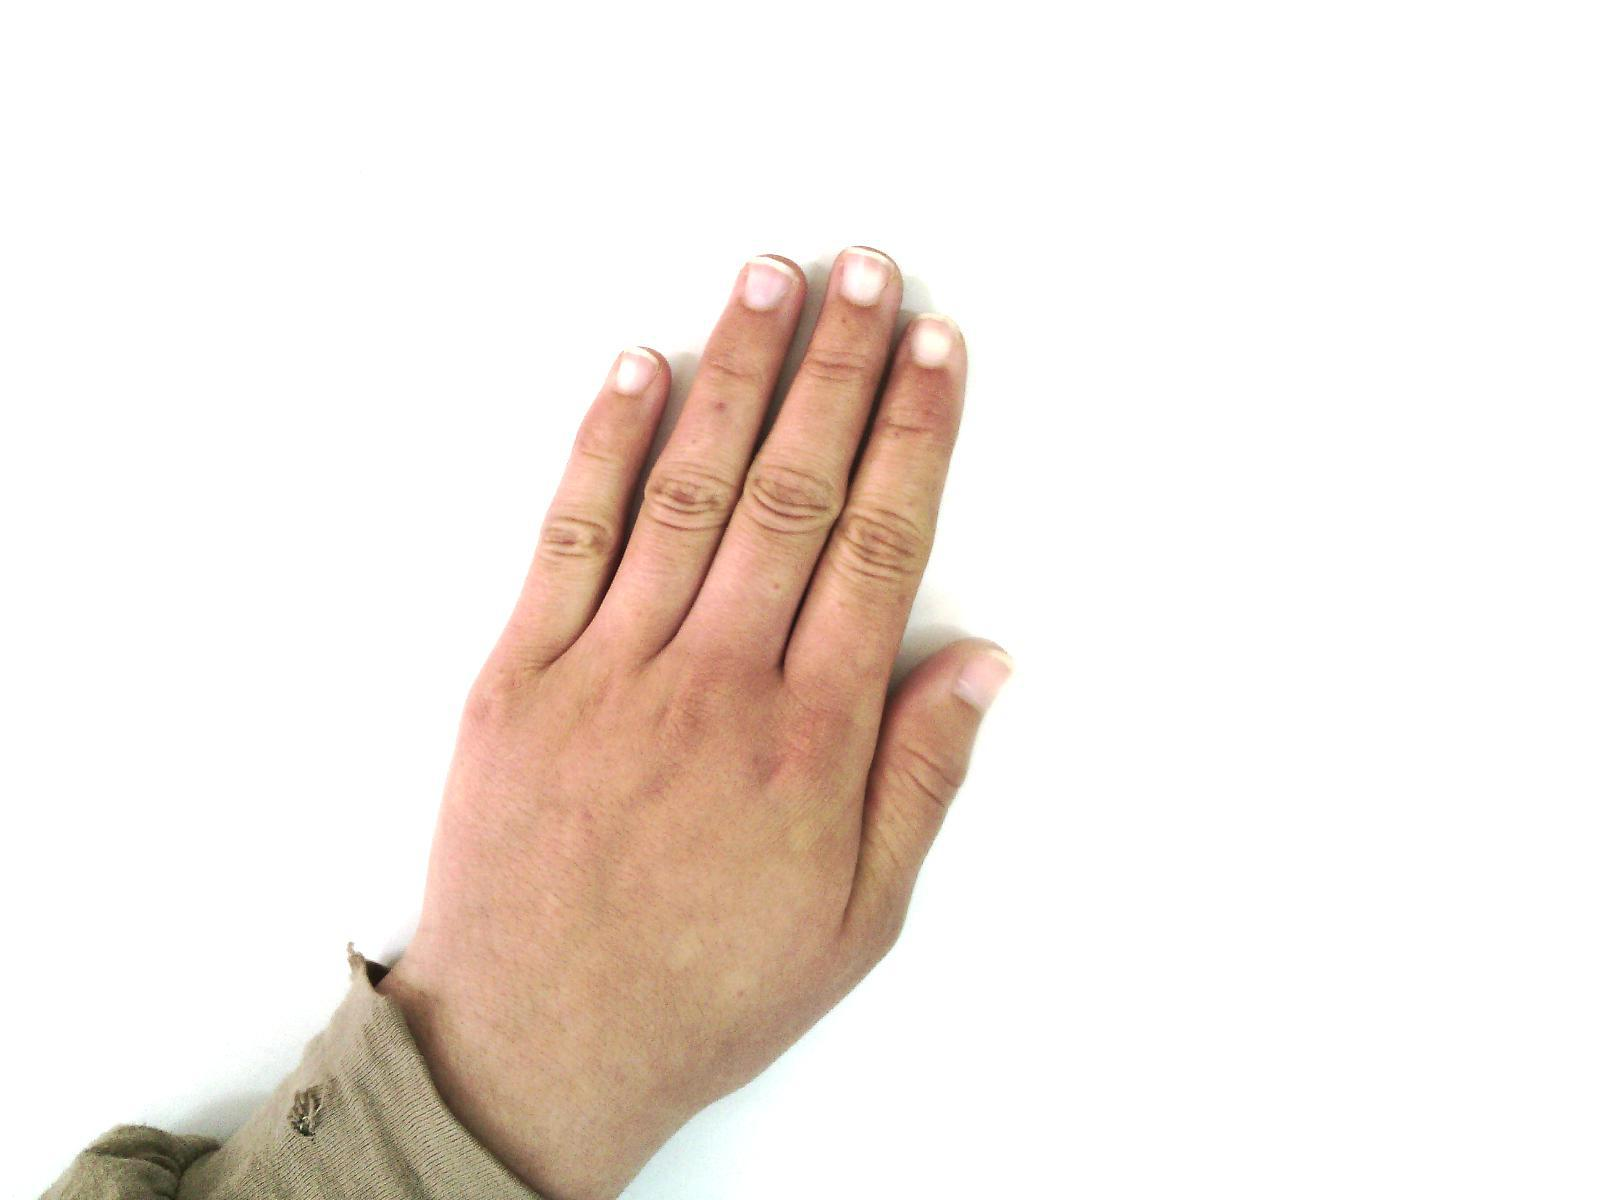hand: (394, 229, 1020, 1116)
